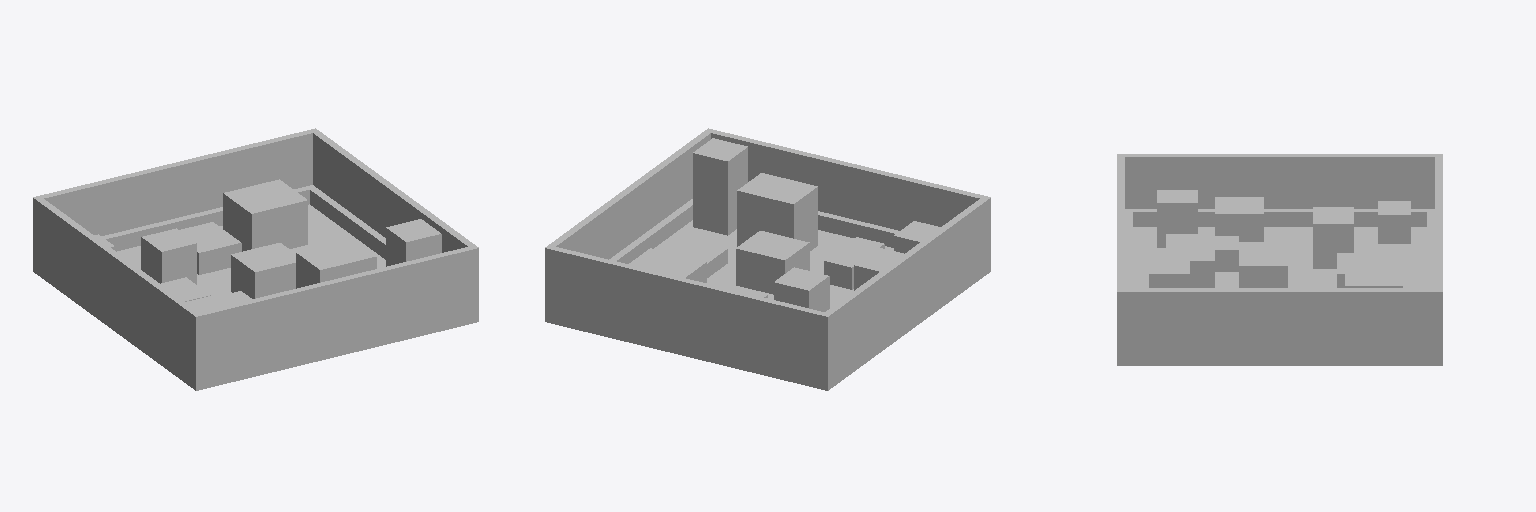
Rendered from Level1.obj.
3 views of the same model, side by side, from view 1: azimuth 30°, elevation 25°; view 2: azimuth 150°, elevation 25°; view 3: azimuth 270°, elevation 25° (orthographic).
Visible parts, largest first — view 1: object 1; view 2: object 1; view 3: object 1.
Part boxes in pixels (x1,y1,x2,y2): object 1: (33, 128, 478, 390); object 1: (545, 128, 990, 390); object 1: (1117, 154, 1442, 365).
Size of the model in its own units: 4 by 1.1 by 4.